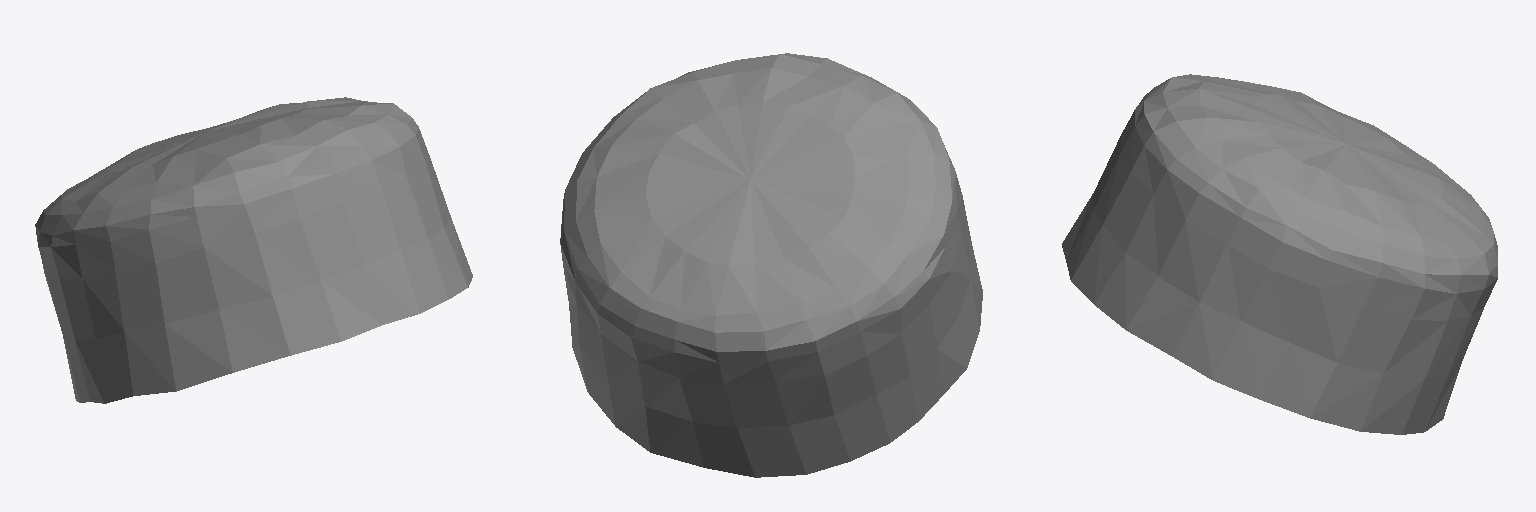
Rendered from right_b_button.obj.
3 views of the same model, side by side, from view 1: azimuth 30°, elevation 25°; view 2: azimuth 150°, elevation 25°; view 3: azimuth 270°, elevation 25° (orthographic).
Visible parts, largest first — view 1: right_b_button Mesh; view 2: right_b_button Mesh; view 3: right_b_button Mesh.
Part boxes in pixels (x1,y1,x2,y2): right_b_button Mesh: (35, 97, 472, 403); right_b_button Mesh: (560, 53, 982, 477); right_b_button Mesh: (1062, 74, 1497, 434).
Bounding box in the file's own units: 0.0092 × 0.0074 × 0.0095.